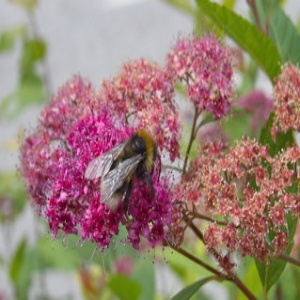bee: (82, 128, 167, 223)
